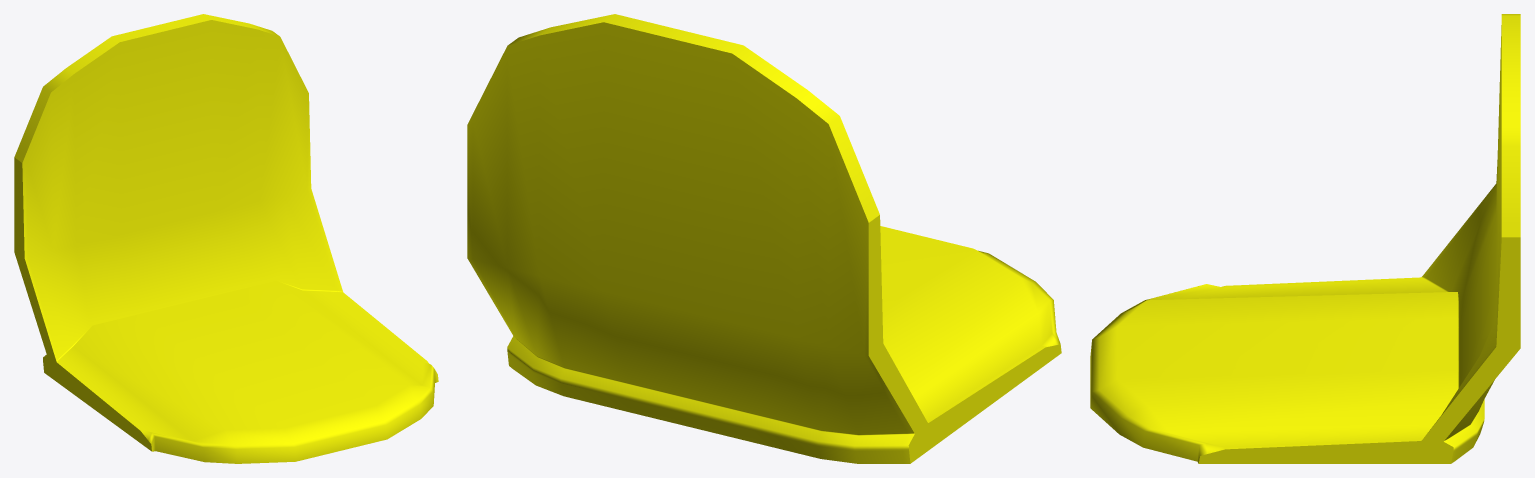
The model's file is Low_Banc_siege.fbx.
3 renders of one model, left to right at view 1: azimuth 30°, elevation 25°; view 2: azimuth 150°, elevation 25°; view 3: azimuth 270°, elevation 25°, orthographic. The views are drawn at different scales.
Visible parts, largest first — view 1: Siege; view 2: Siege; view 3: Siege.
Boxes of the visible parts, bbox=[...] form: Siege: bbox=[14, 14, 438, 463]; Siege: bbox=[467, 14, 1061, 463]; Siege: bbox=[1090, 14, 1520, 463].
Size of what is drawn, in the model's own units: 52.18 by 50.6 by 58.
